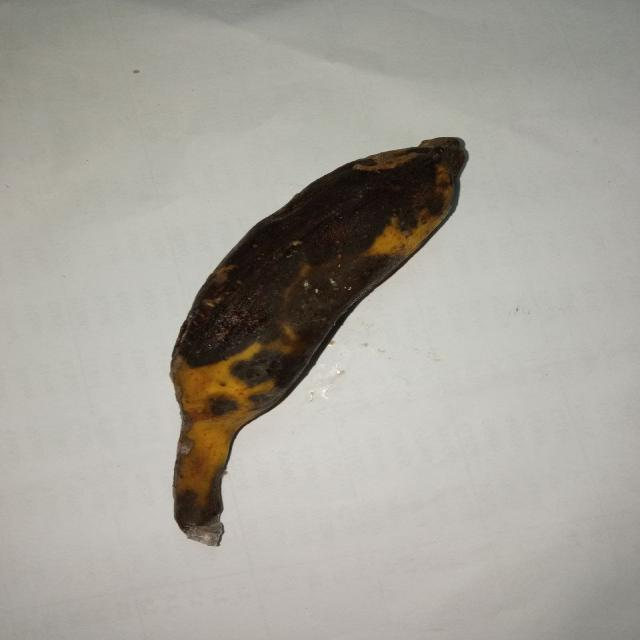rotten_banana: (164, 136, 470, 548)
